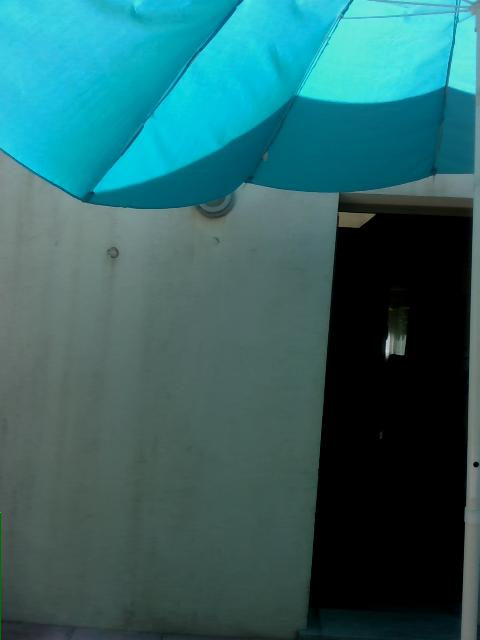open_door: (303, 189, 479, 637)
